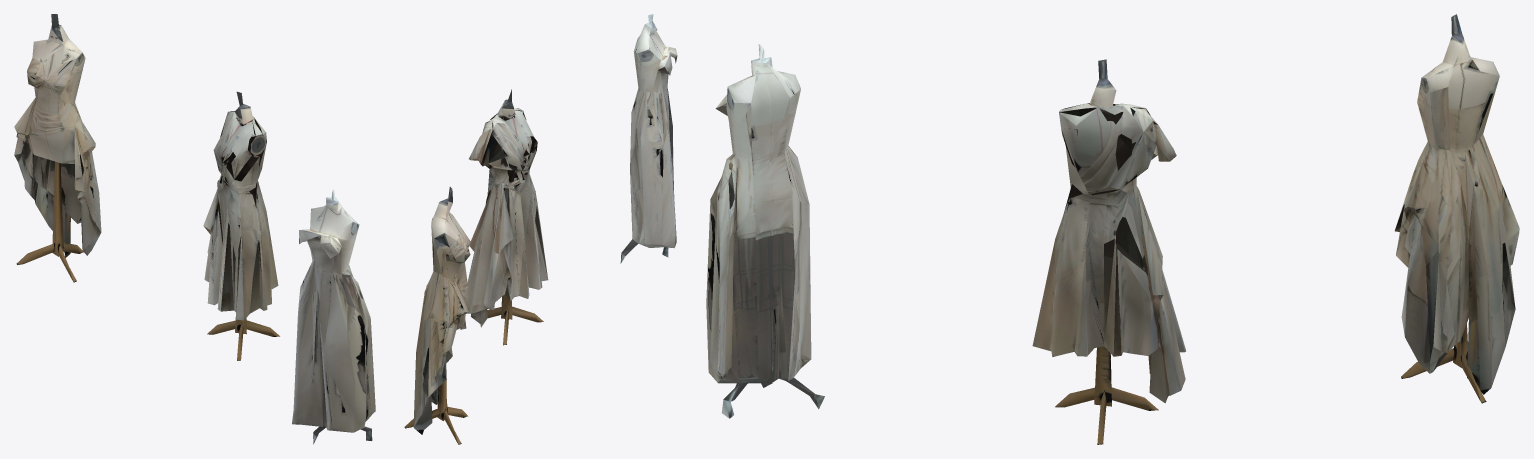
Rendered from Dress_LOD5.glb.
3 views of the same model, side by side, from view 1: azimuth 30°, elevation 25°; view 2: azimuth 150°, elevation 25°; view 3: azimuth 270°, elevation 25° (orthographic). The views are drawn at different scales.
Visible parts, largest first — view 1: Dress_LOD5; view 2: Dress_LOD5; view 3: Dress_LOD5.
Part boxes in pixels (x1,y1,x2,y2): Dress_LOD5: (14,14,375,444); Dress_LOD5: (404,14,677,444); Dress_LOD5: (706,14,1519,444).
Bounding box in the file's own units: 1.05 × 2.01 × 4.05.
1 material, 1 textured.
